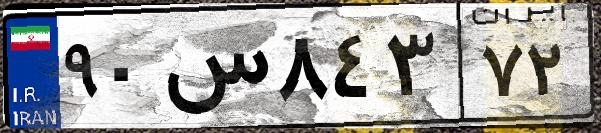0: (110, 28, 158, 98)
2: (525, 38, 570, 115)
3: (385, 28, 445, 110)
4: (330, 28, 385, 110)
7: (475, 38, 525, 113)
8: (270, 28, 330, 110)
9: (57, 26, 110, 100)
س: (158, 20, 270, 120)
